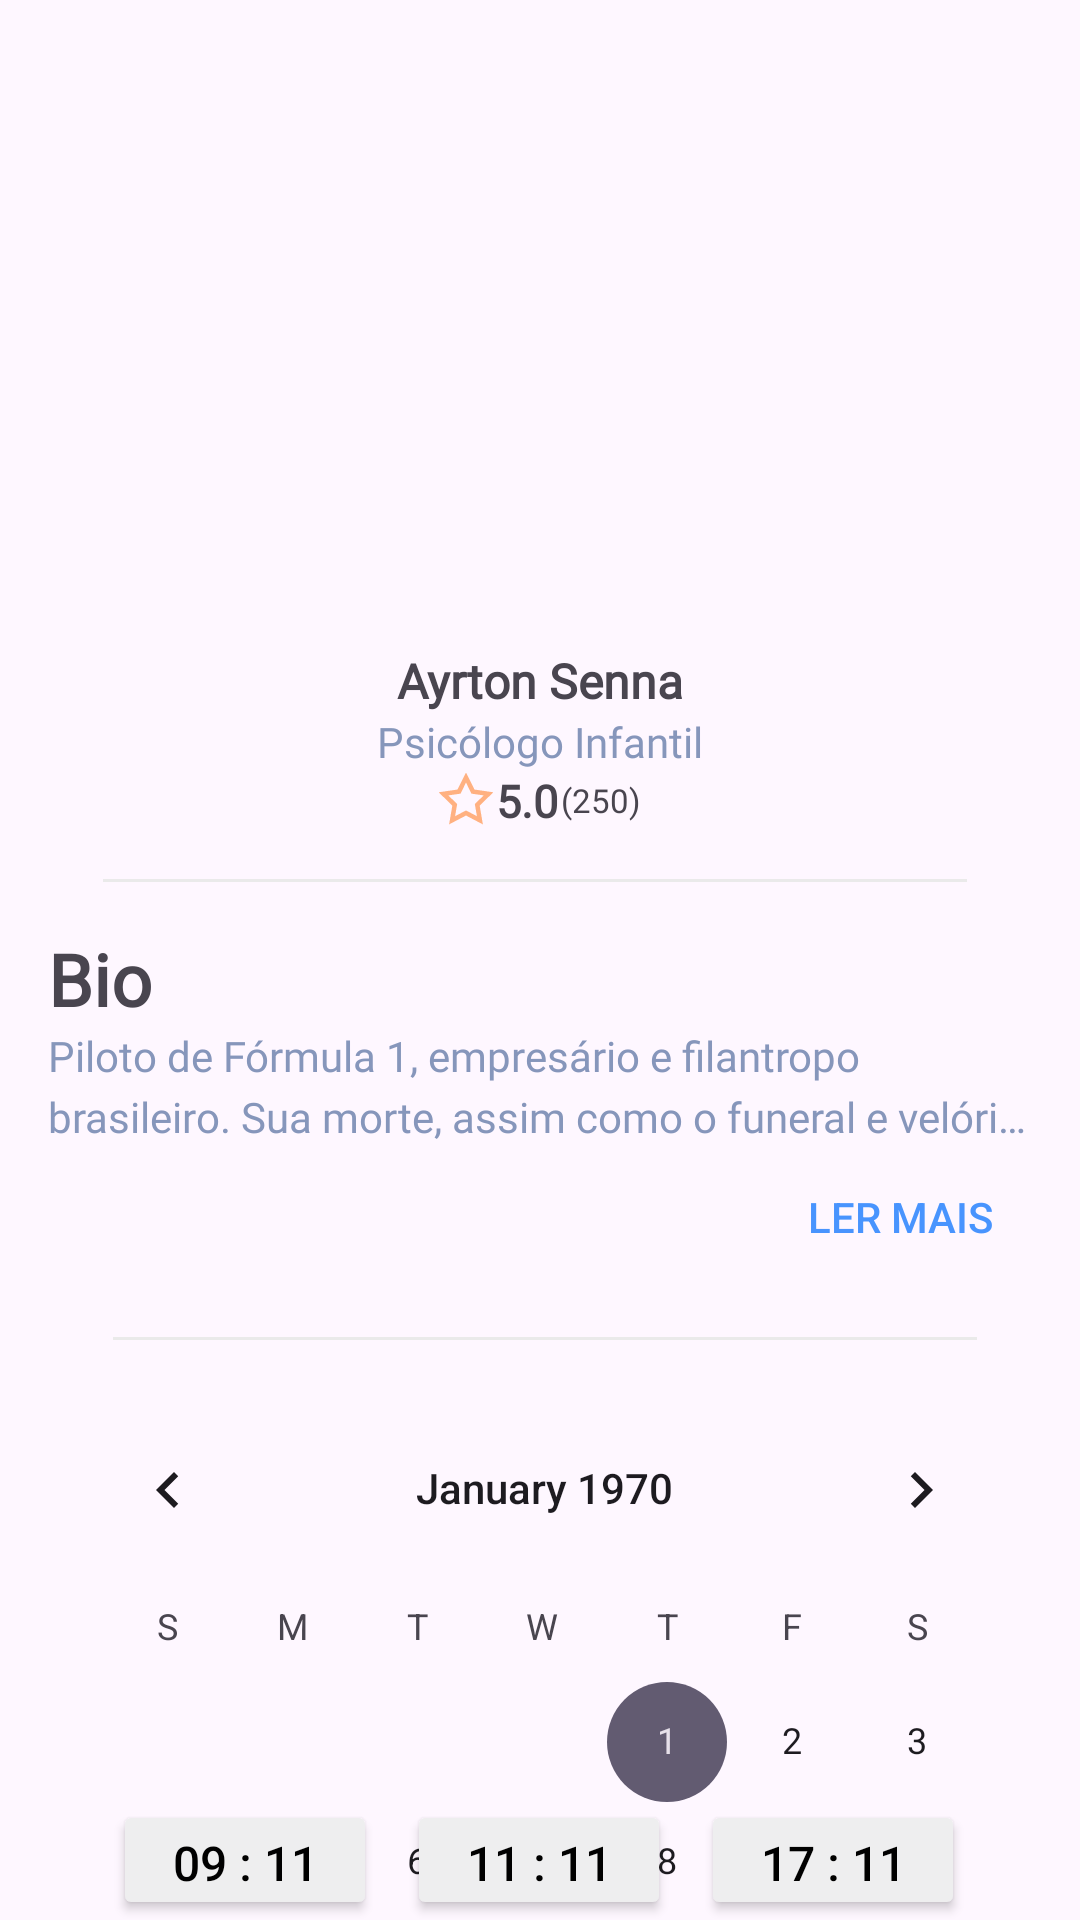

Where to tap for icons on this 1080w x 1920h app screen, as point (x, y):
favorite star: point (466, 798)
